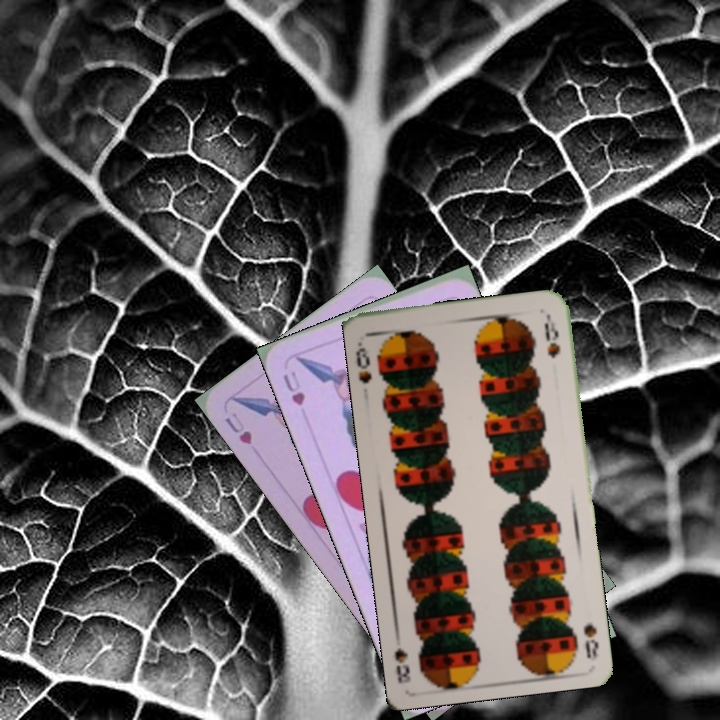HU: (220, 408, 255, 448), (279, 367, 308, 408)
S8: (352, 338, 375, 387), (579, 619, 601, 661)
